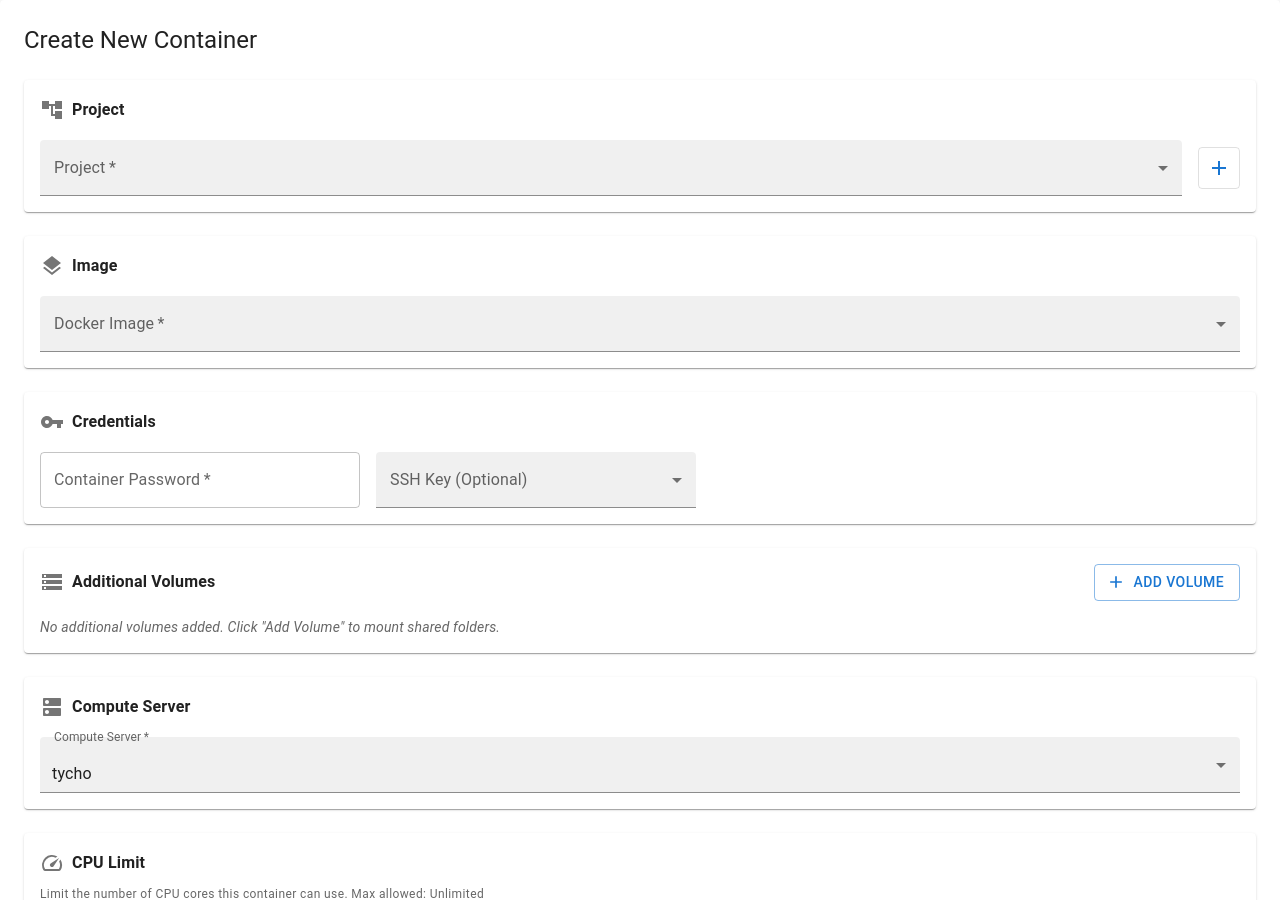
Test: selects expose name-keyed options to end-to-end tests
Later steps or results of the test are not shown.
Press the mouse on the dropdown with test id "container-project-select" at x=611, y=168, box x1=40 y1=140 x2=1182 y2=196
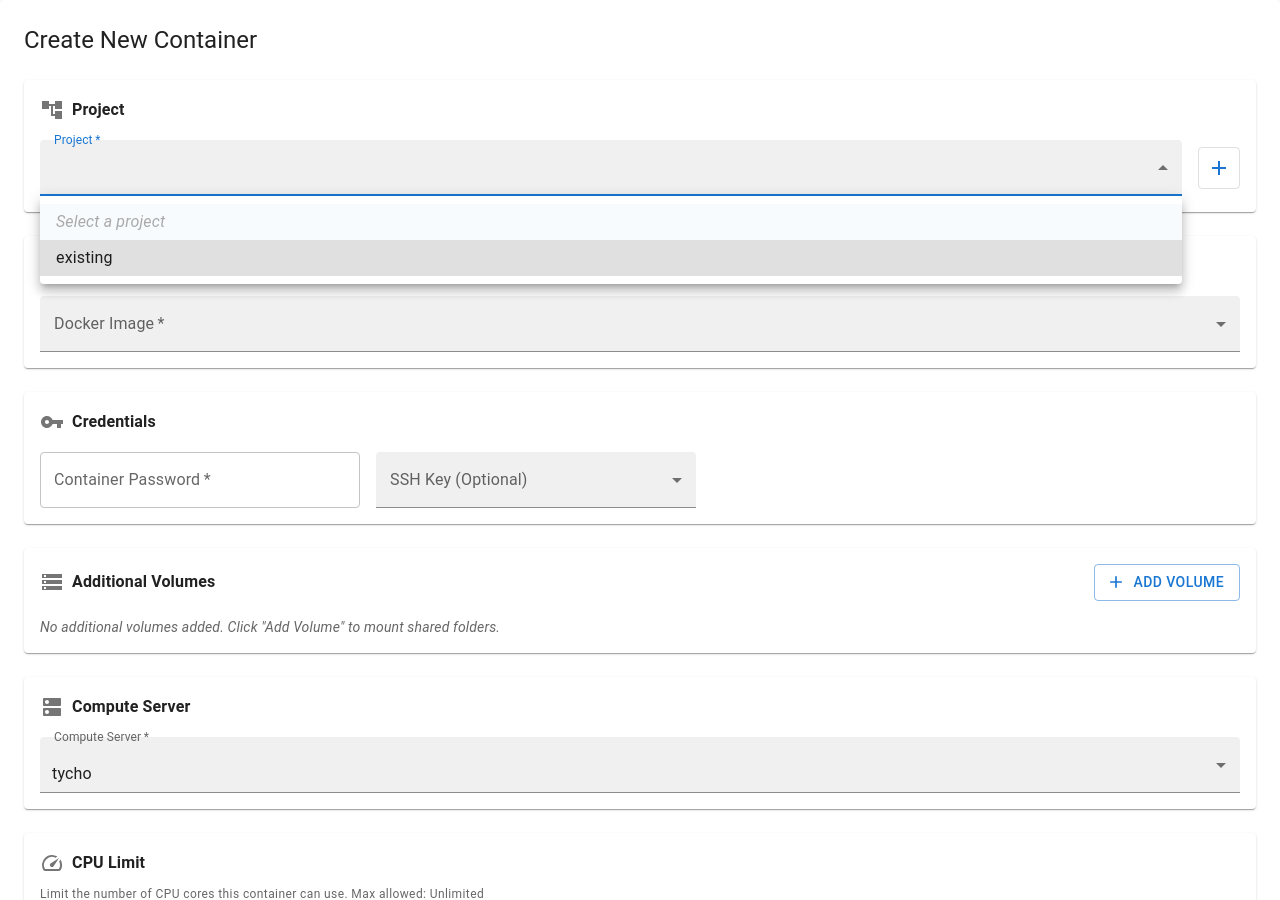
Check: the option with test id "container-project-option-existing" is shown, box x1=40 y1=240 x2=1182 y2=276
